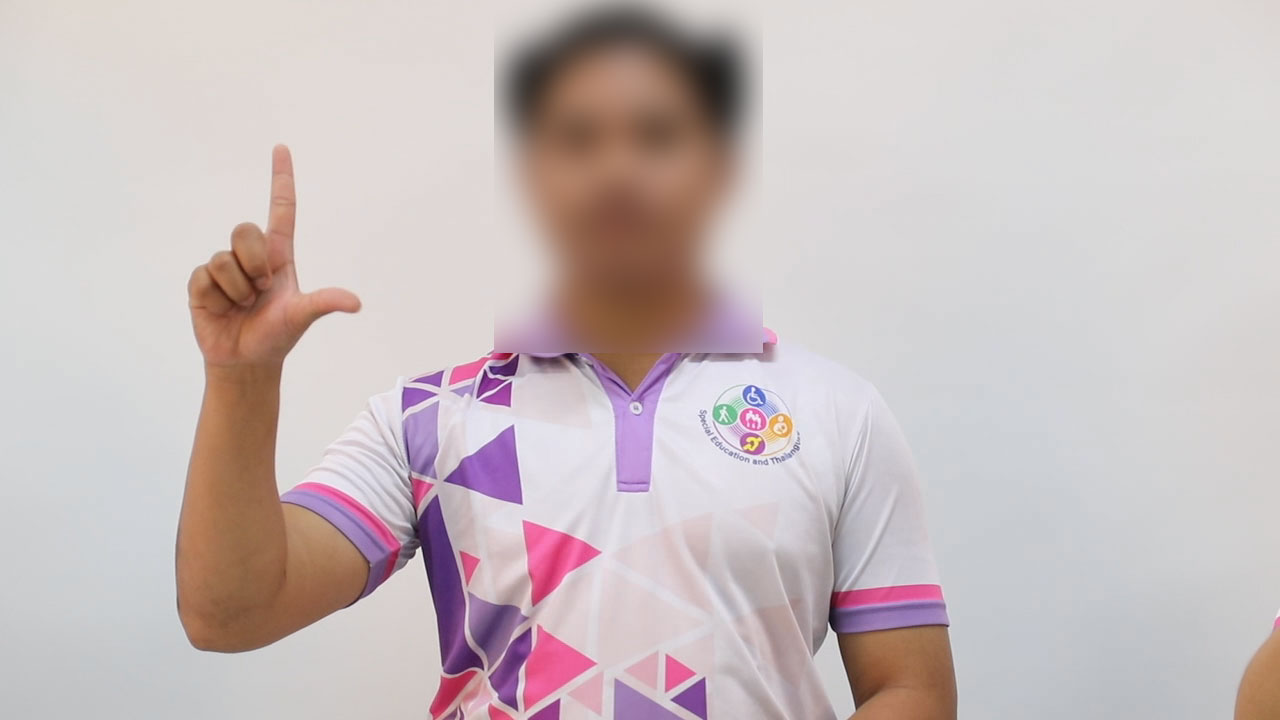lor: (168, 133, 383, 385)
